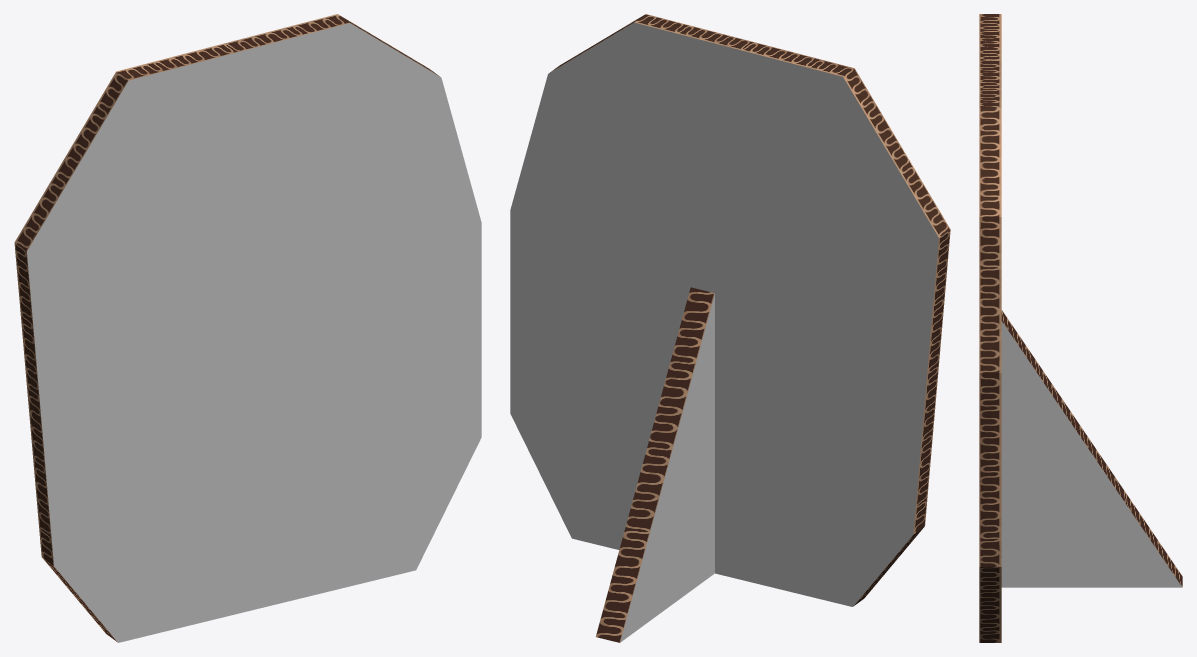
Rendered from Tonneau.fbx.
3 renders of one model, left to right at view 1: azimuth 30°, elevation 25°; view 2: azimuth 150°, elevation 25°; view 3: azimuth 270°, elevation 25°, orthographic. The views are drawn at different scales.
Visible parts, largest first — view 1: Tonneau_LOD0; view 2: Tonneau_LOD0; view 3: Tonneau_LOD0.
Boxes of the visible parts, x1,y1,x2,y2 form: Tonneau_LOD0: (14, 14, 481, 642); Tonneau_LOD0: (510, 14, 950, 642); Tonneau_LOD0: (979, 14, 1182, 642).
Bounding box in the file's own units: 227 × 269 × 97.87.
